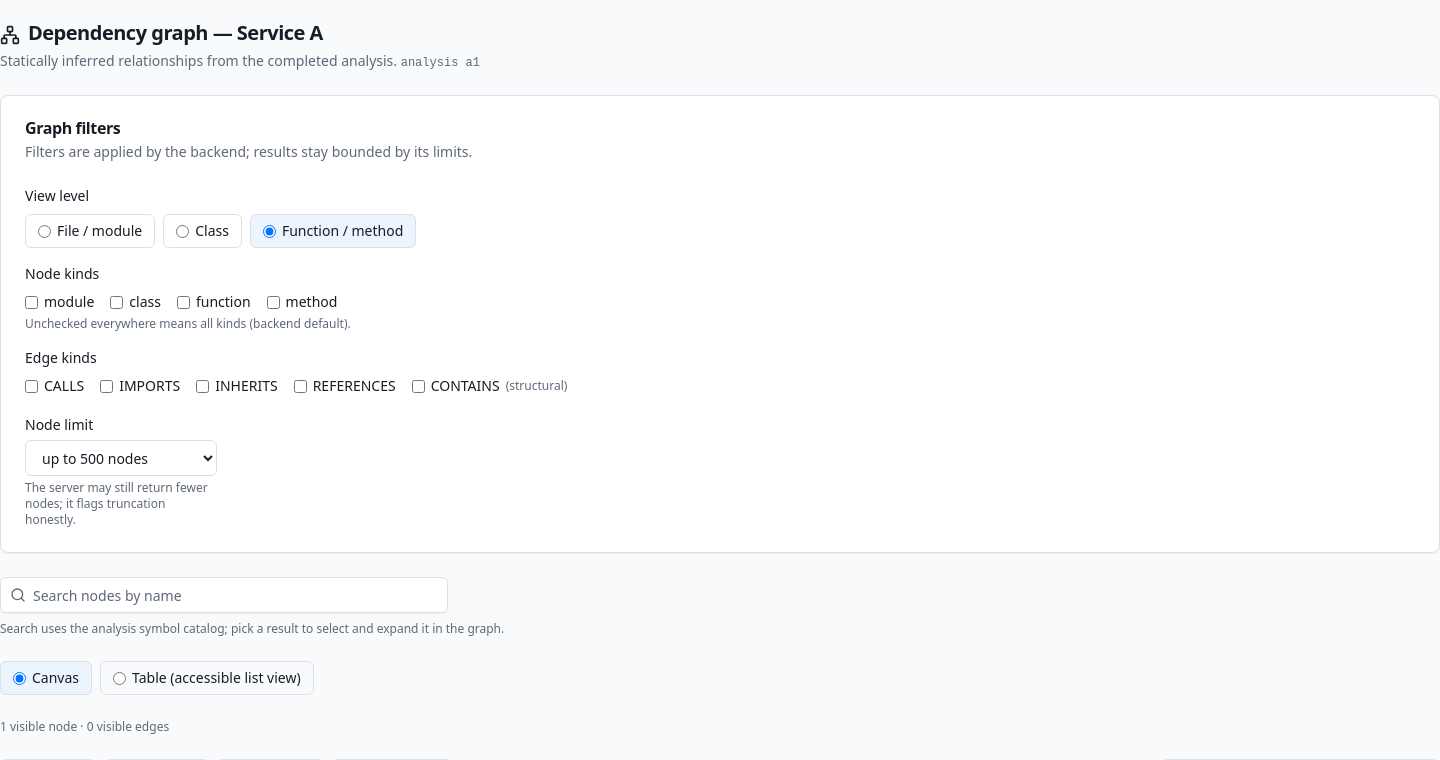
Test: impact panel (Phase 6B) › maps ANALYSIS_NOT_READY to an actionable error with retry
The width and height of the screenshot is (1440, 760).
Click the radio button labelled "Table (accessible list view)": x=120, y=678 [113, 672, 126, 684]
(page scrolled)
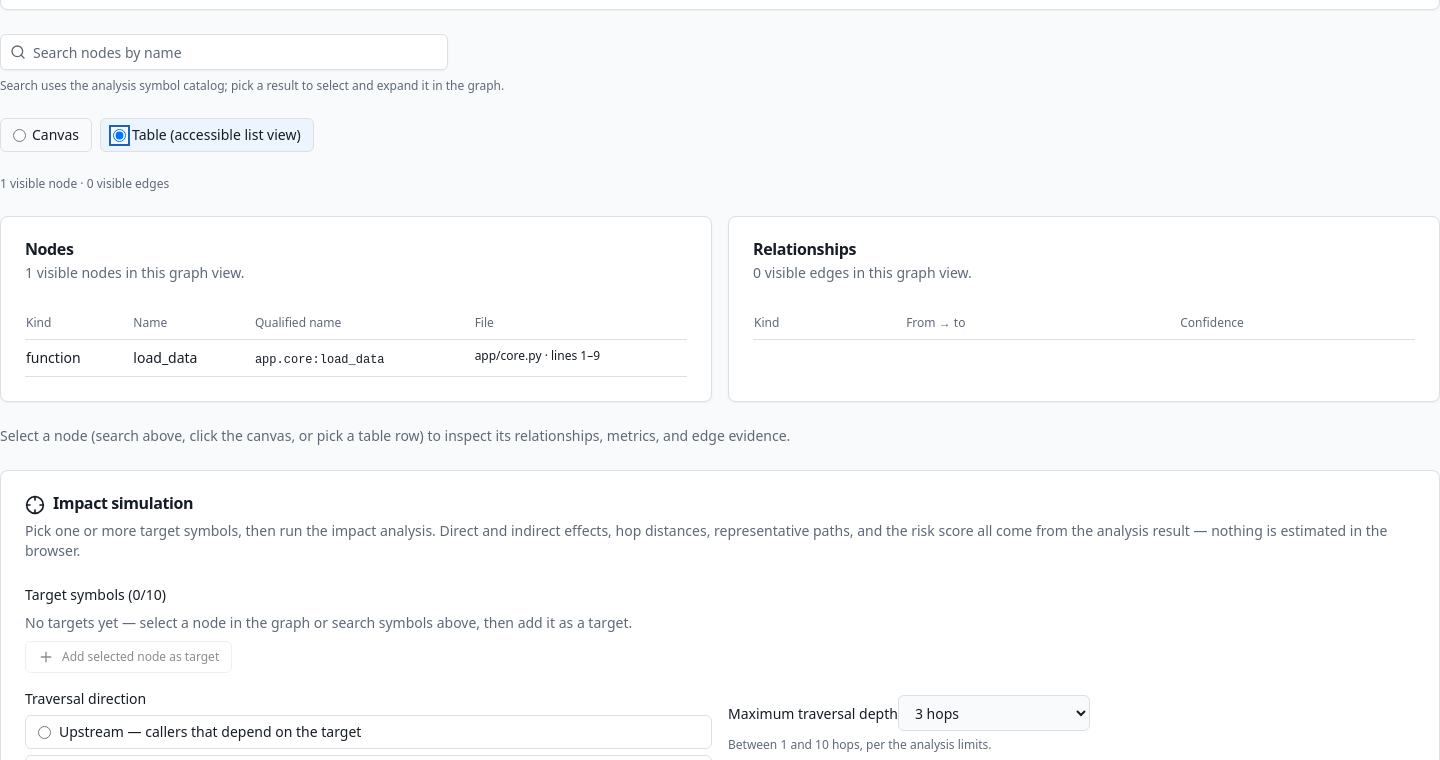
Click the text "app.core:load_data": x=320, y=360 [255, 353, 384, 367]
(page scrolled)
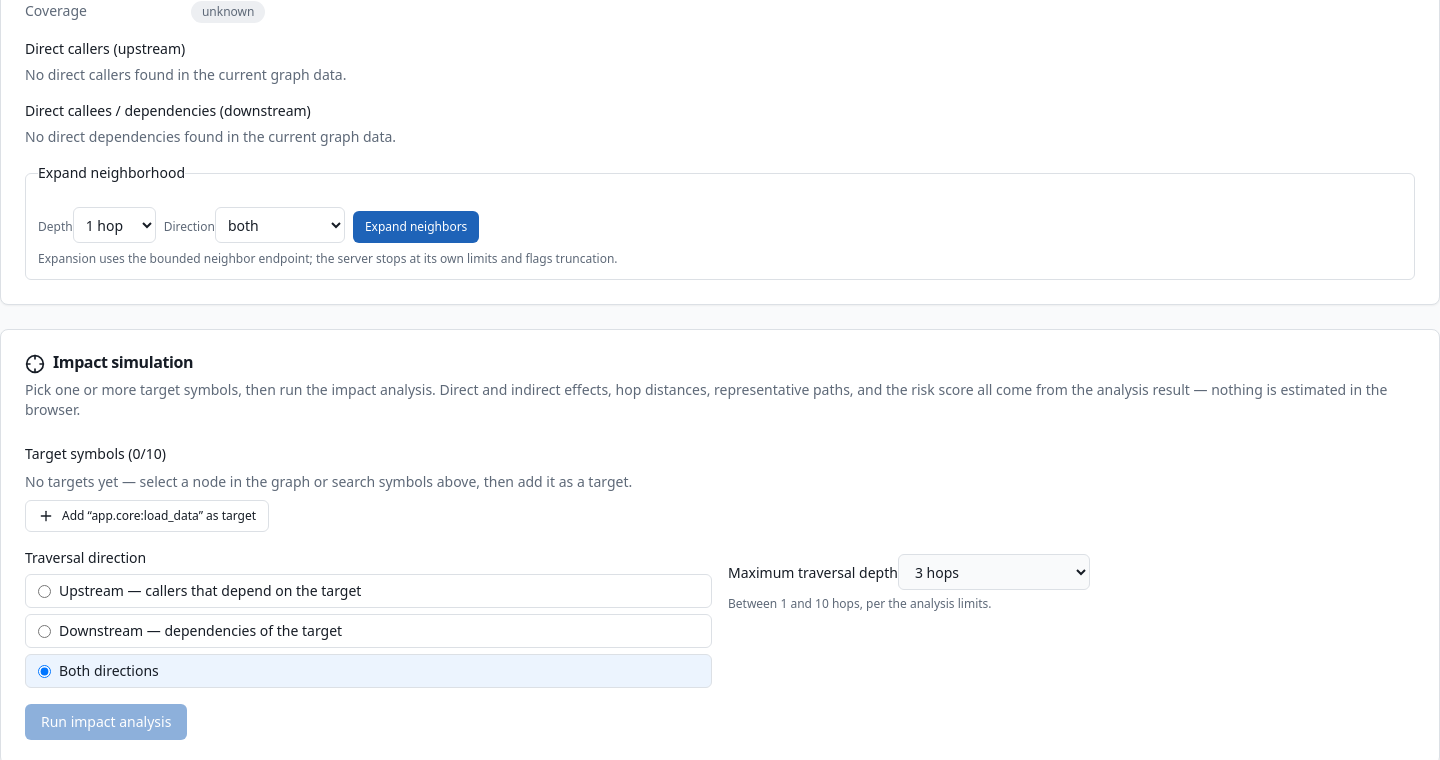
Click the button "Add “app.core:load_data” as target": x=147, y=516 [25, 500, 269, 532]
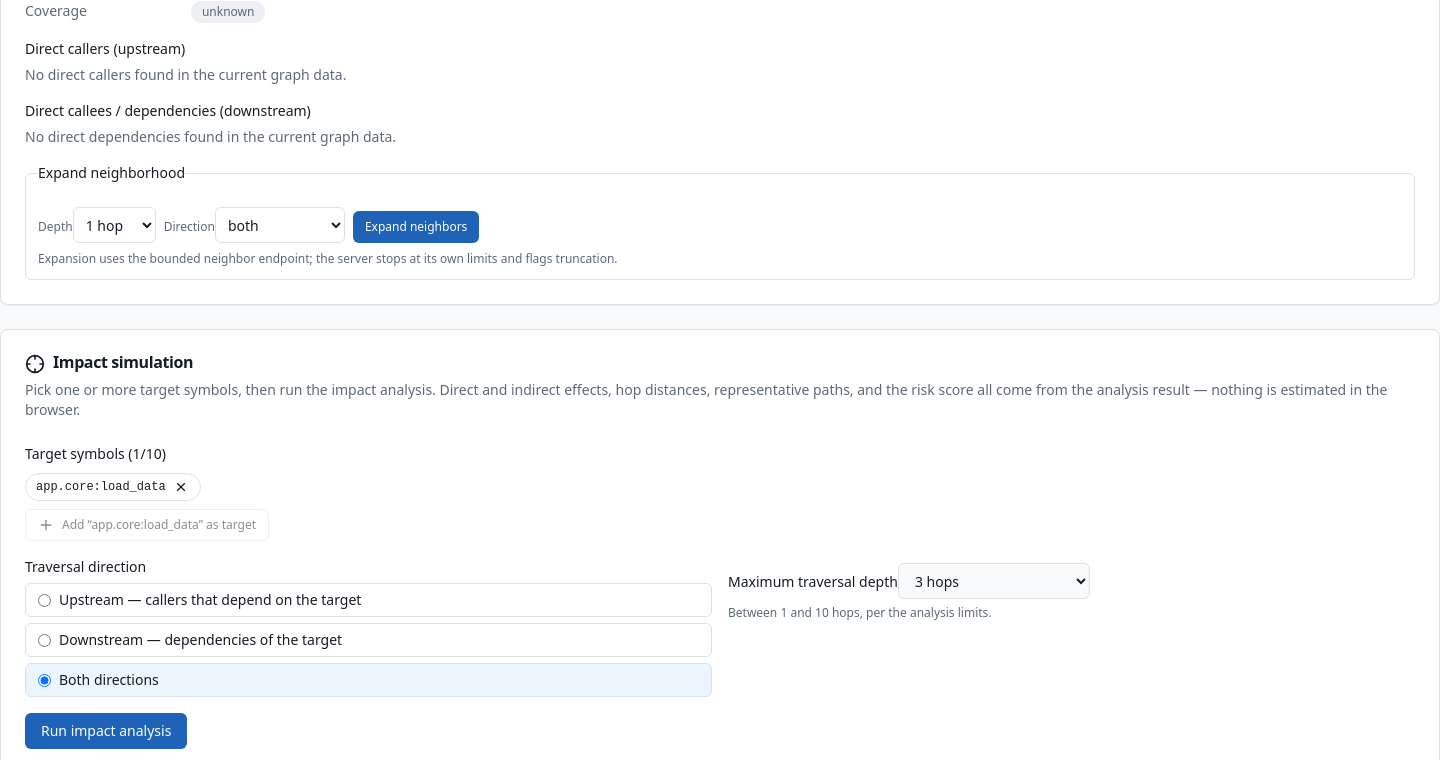
Click the button "Run impact analysis": x=106, y=731 [25, 713, 187, 749]
(page scrolled)
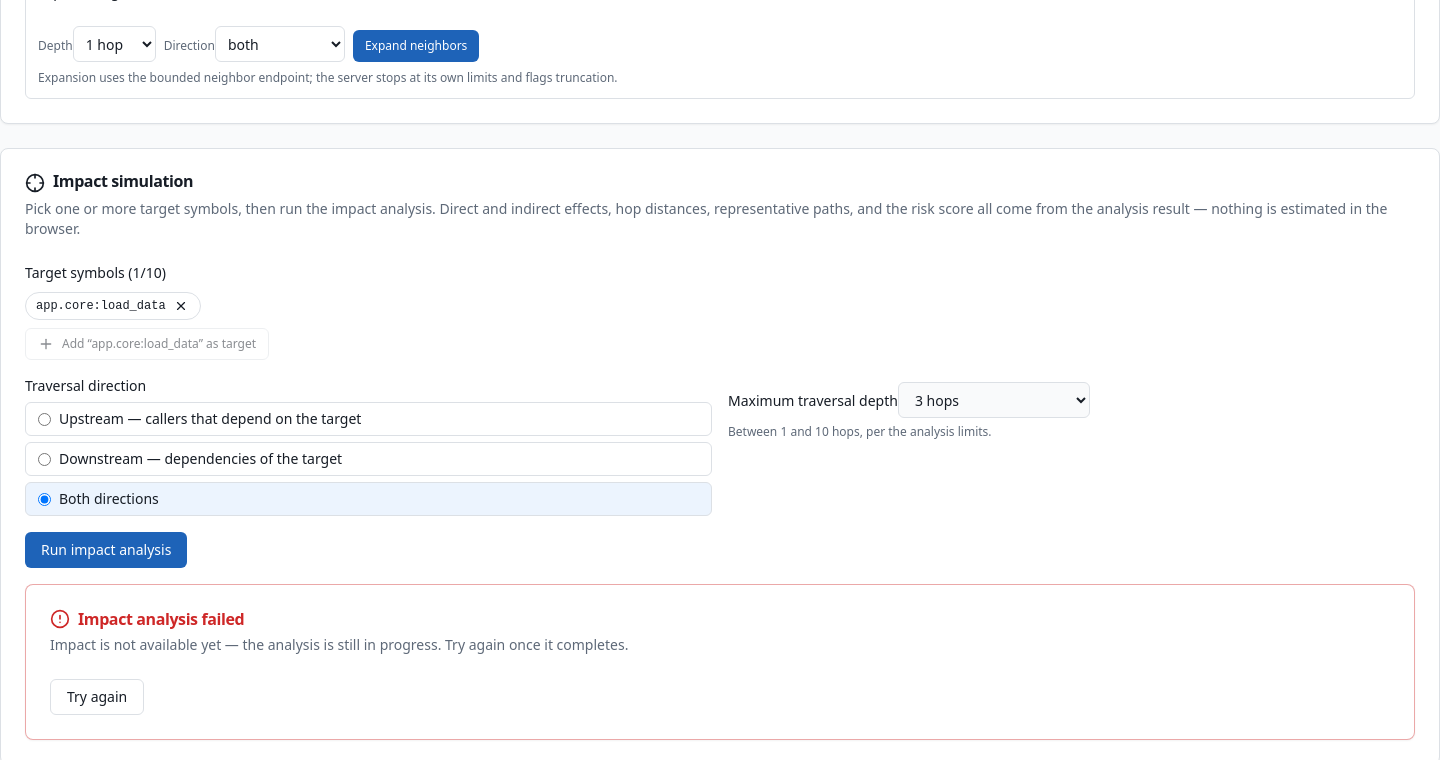
expect the heading "Impact analysis failed" is shown: met, box [50, 608, 244, 630]
expect the text "not available yet — the analysis is still in progress" is shown: met, box [50, 635, 628, 654]
expect the button "Try again" is shown: met, box [50, 679, 144, 715]
